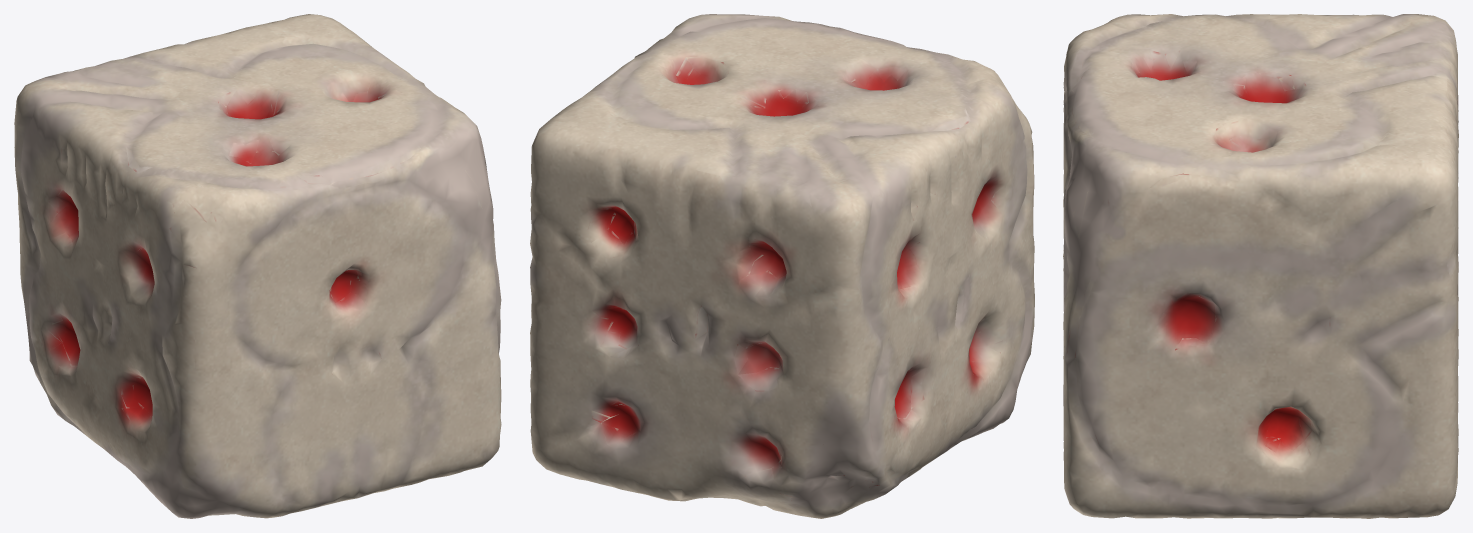
The model's file is Dice.glb.
3 renders of one model, left to right at view 1: azimuth 30°, elevation 25°; view 2: azimuth 150°, elevation 25°; view 3: azimuth 270°, elevation 25°, orthographic. The views are drawn at different scales.
Parts seen in each view (by area): view 1: Unity HD Render Pipeline (Metallic Standard); view 2: Unity HD Render Pipeline (Metallic Standard); view 3: Unity HD Render Pipeline (Metallic Standard).
Boxes of the visible parts, bbox=[...] form: Unity HD Render Pipeline (Metallic Standard): bbox=[14, 14, 501, 518]; Unity HD Render Pipeline (Metallic Standard): bbox=[530, 14, 1034, 518]; Unity HD Render Pipeline (Metallic Standard): bbox=[1063, 14, 1458, 518].
Bounding box in the file's own units: 0.3877 × 0.3875 × 0.3879.
Materials: 1 (1 with a texture image).
